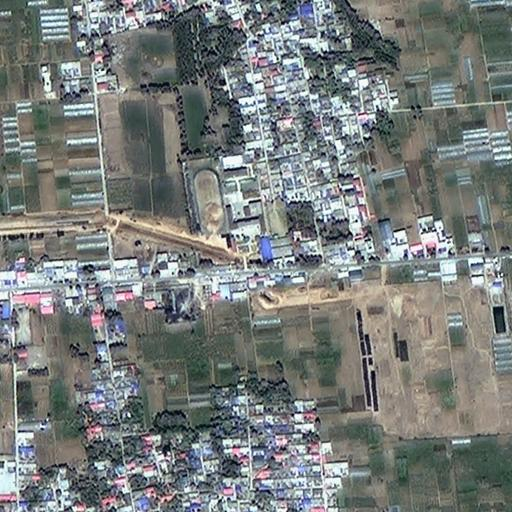school: (188, 151, 266, 238)
